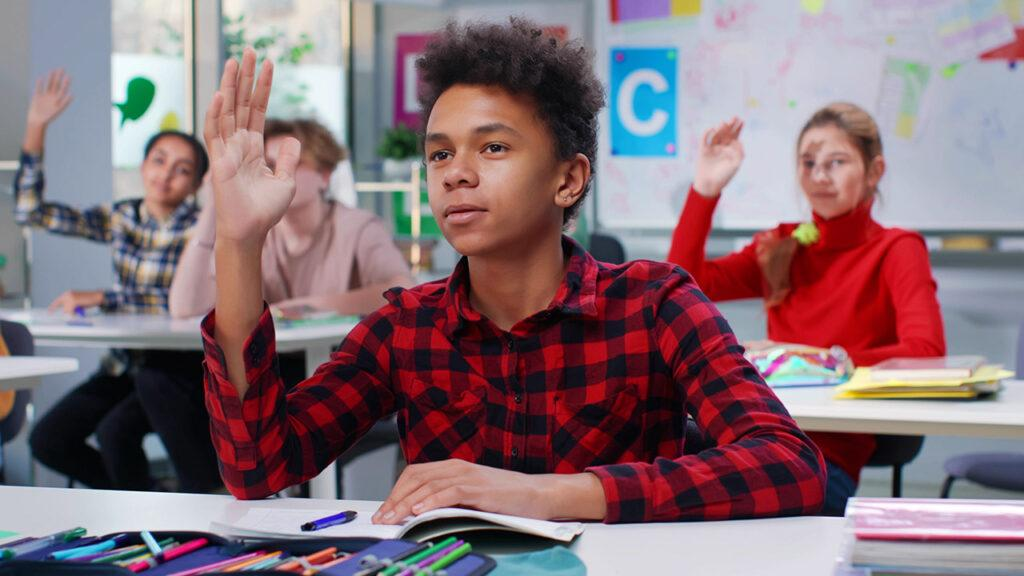study: (199, 22, 821, 526), (645, 104, 953, 363), (23, 75, 205, 319)
